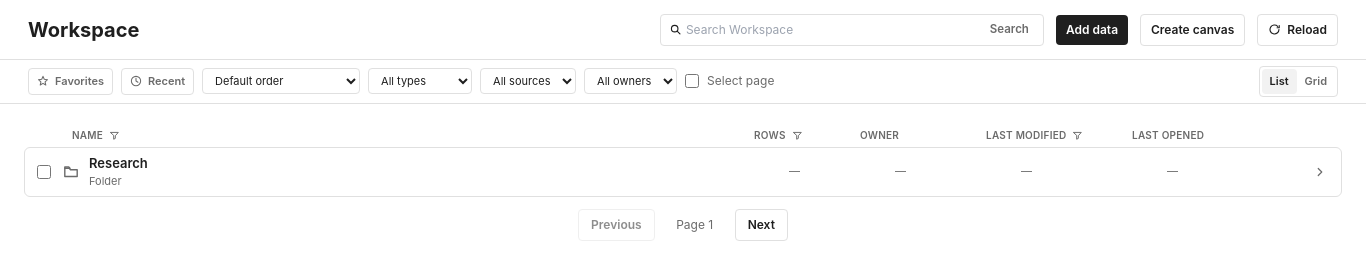
Test: WorkspaceExplorer › moves between bounded Workspace pages only when the user asks
Click the button with test id "workspace-next-page". click: (761, 224)
box: [735, 208, 788, 240]
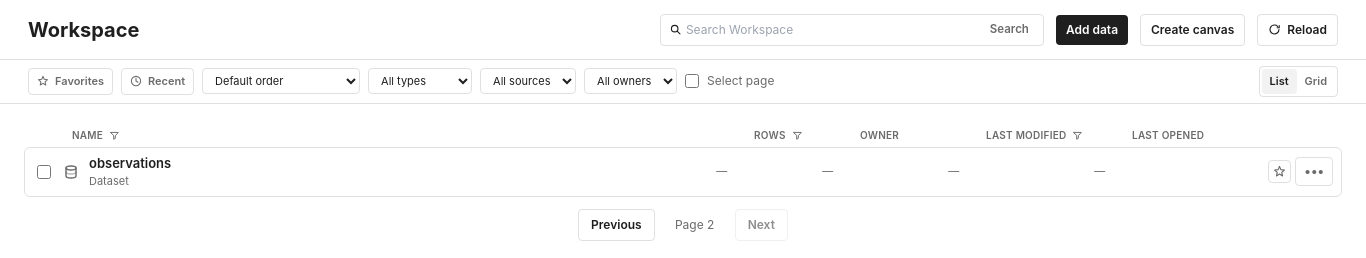
Expected: the text "observations" is shown, [89, 154, 171, 170]
Expected: the button "Research" is gone
